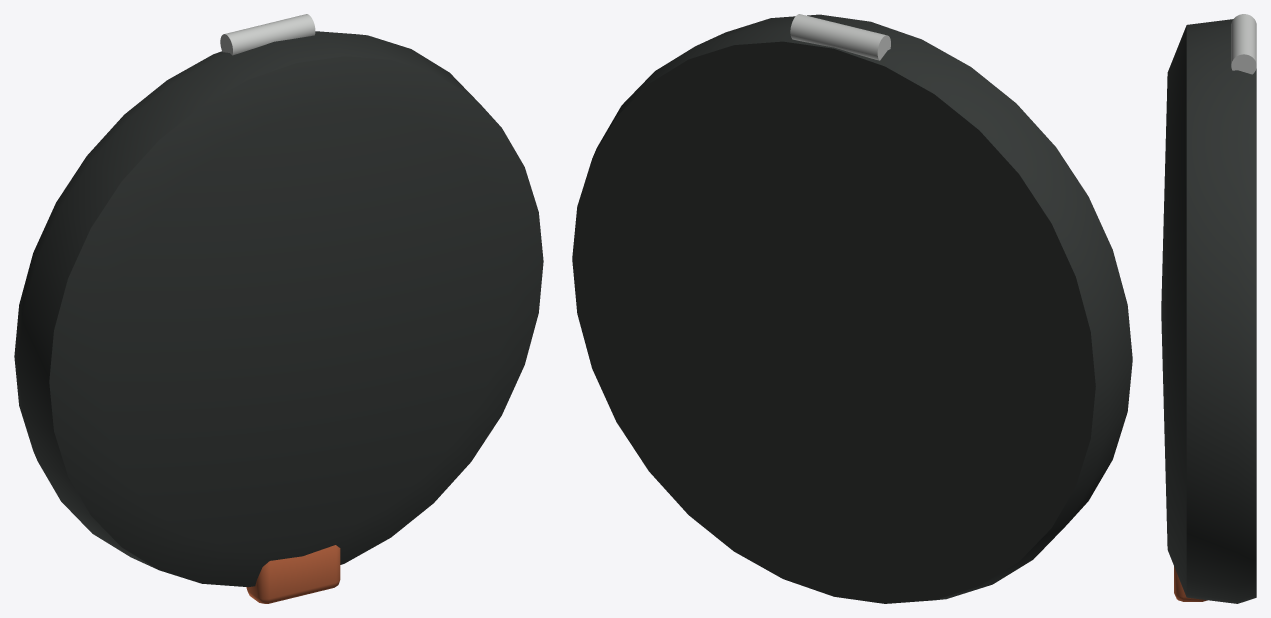
Rendered from electrode_drying_oven_lid.glb.
3 views of the same model, side by side, from view 1: azimuth 30°, elevation 25°; view 2: azimuth 150°, elevation 25°; view 3: azimuth 270°, elevation 25° (orthographic). The views are drawn at different scales.
Visible parts, largest first — view 1: electrode_drying_oven_lid; view 2: electrode_drying_oven_lid; view 3: electrode_drying_oven_lid.
Boxes of the visible parts, x1=… form: electrode_drying_oven_lid: x1=14, y1=14, x2=543, y2=603; electrode_drying_oven_lid: x1=572, y1=14, x2=1132, y2=603; electrode_drying_oven_lid: x1=1161, y1=14, x2=1256, y2=603.
Size of the model in its own units: 0.184 by 0.191 by 0.03.
